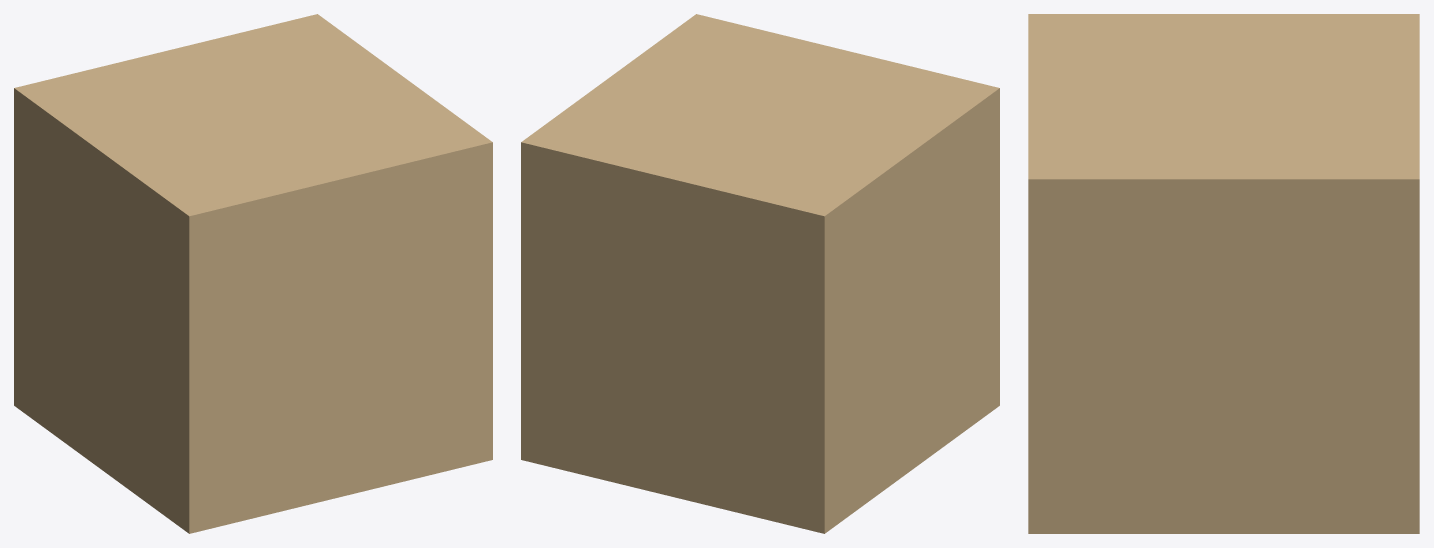
File: 90_floorboard.glb
The picture shows the model from 3 angles, left to right: view 1: azimuth 30°, elevation 25°; view 2: azimuth 150°, elevation 25°; view 3: azimuth 270°, elevation 25°; orthographic projection. The views are drawn at different scales.
Parts seen in each view (by area): view 1: Core, Panel; view 2: Core, Panel; view 3: Core, Panel.
Part boxes in pixels (x1=…): Core: x1=14, y1=14, x2=492, y2=533; Panel: x1=14, y1=218, x2=490, y2=403; Core: x1=521, y1=14, x2=999, y2=533; Panel: x1=524, y1=218, x2=999, y2=402; Core: x1=1028, y1=14, x2=1419, y2=533; Panel: x1=1028, y1=324, x2=1419, y2=388.
Bounding box in the file's own units: 1 × 1 × 1.
